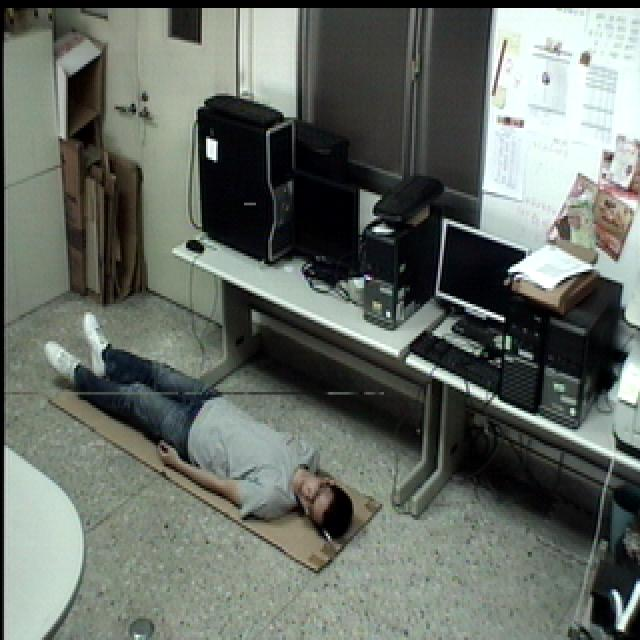lie: (36, 298, 358, 550)
